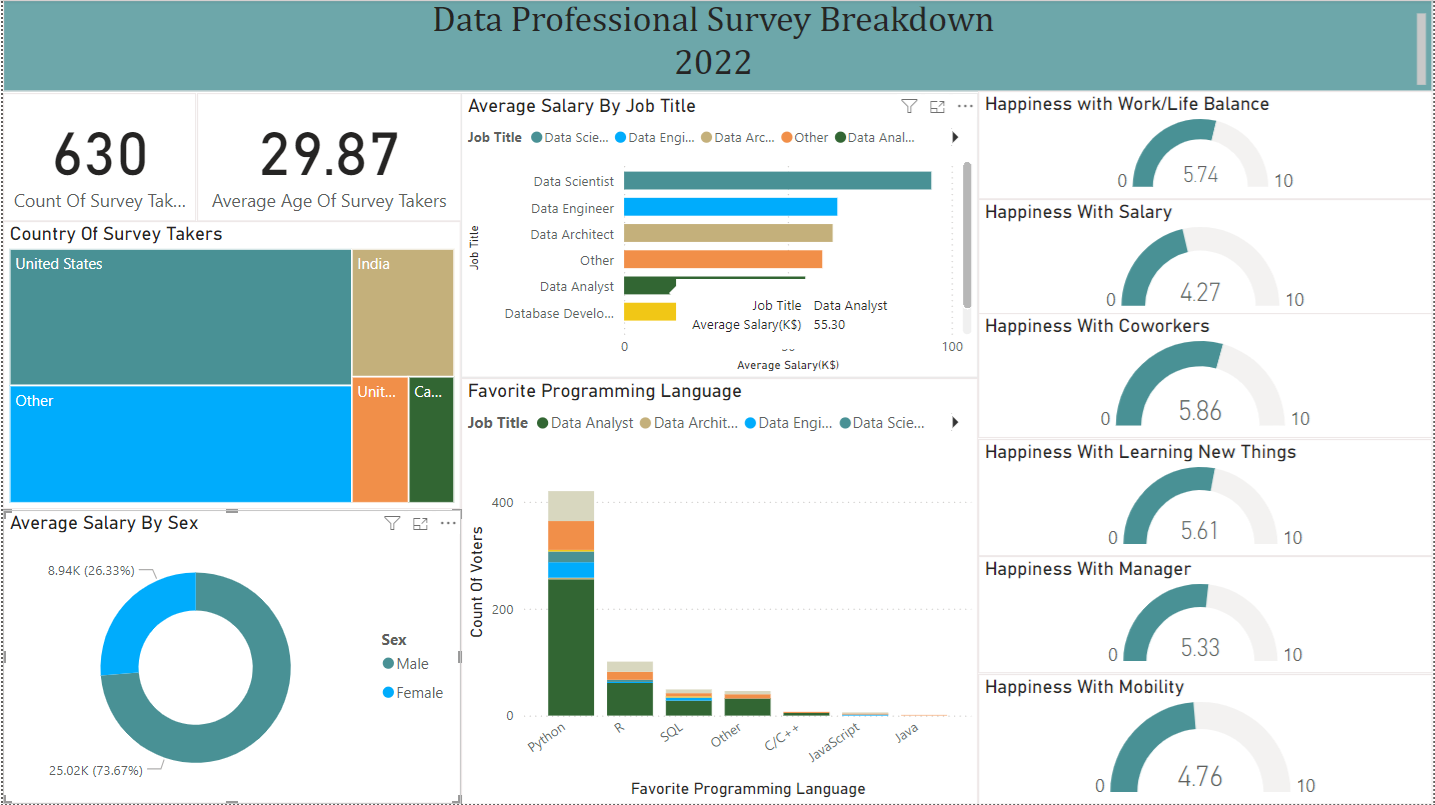

What the dashboard file says about the page in this screenshot:
{"tool":"powerbi","page":{"name":"Page 1","canvas":[1280,720],"ordinal":0},"visuals":[{"type":"textbox","box":[0,0,1280,81.7],"z":0},{"type":"card","fields":{"Values":["Data Professional Survey.Email"]},"box":[0,83.3,173.3,115],"z":1000},{"type":"card","fields":{"Values":["Data Professional Survey.Q10 - Current Age"]},"box":[173.3,83.3,236.7,115],"z":2000},{"type":"barChart","title":"Average Salary By Job Title","fields":{"Category":["Data Professional Survey.Q1 - Which Title Best Fits your Current Role?.1"],"Y":["Data Professional Survey.Average Salary"],"Series":["Data Professional Survey.Q1 - Which Title Best Fits your Current Role?.1"]},"box":[410,83.3,463.3,255],"z":3000},{"type":"columnChart","title":"Favorite Programming Language","fields":{"Category":["Data Professional Survey.Q5 - Favorite Programming Language.1"],"Y":["Data Professional Survey.Q5 - Favorite Programming Language.1"],"Series":["Data Professional Survey.Q1 - Which Title Best Fits your Current Role?.1"]},"box":[410,338.3,463.3,381.7],"z":4000},{"type":"treemap","title":"Country Of Survey Takers","fields":{"Group":["Data Professional Survey.Q11 - Which Country do you live in?.1"],"Values":["Data Professional Survey.Q11 - Which Country do you live in?.1"]},"box":[0,198.3,410,258.3],"z":5000},{"type":"gauge","title":"Happiness with Work/Life Balance","fields":{"Y":["Data Professional Survey.Q6 - How Happy are you in your Current Position with the following? (Work/Life Balance)"],"MinValue":["Data Professional Survey.Q6 - How Happy are you in your Current Position with the following? (Work/Life Balance)"],"MaxValue":["Data Professional Survey.Q6 - How Happy are you in your Current Position with the following? (Work/Life Balance)"]},"box":[873.3,81.7,406.7,96.7],"z":6000},{"type":"gauge","title":"Happiness With Salary","fields":{"Y":["Data Professional Survey.Q6 - How Happy are you in your Current Position with the following? (Salary)"],"MinValue":["Data Professional Survey.Q6 - How Happy are you in your Current Position with the following? (Salary)"],"MaxValue":["Data Professional Survey.Q6 - How Happy are you in your Current Position with the following? (Salary)"]},"box":[873.3,178.3,406.7,106.7],"z":7000},{"type":"donutChart","title":"Average Salary By Sex","fields":{"Category":["Data Professional Survey.Q9 - Male/Female?"],"Y":["Data Professional Survey.Average Salary"]},"box":[0,456.7,410,263.3],"z":8000},{"type":"gauge","title":"Happiness With Coworkers","fields":{"Y":["Data Professional Survey.Q6 - How Happy are you in your Current Position with the following? (Coworkers)"],"MaxValue":["Data Professional Survey.Q6 - How Happy are you in your Current Position with the following? (Coworkers)"],"MinValue":["Data Professional Survey.Q6 - How Happy are you in your Current Position with the following? (Coworkers)"]},"box":[873.3,280,406.7,111.7],"z":8001},{"type":"gauge","title":"Happiness With Learning New Things","fields":{"Y":["Data Professional Survey.Q6 - How Happy are you in your Current Position with the following? (Learning New Things)"],"MinValue":["Data Professional Survey.Q6 - How Happy are you in your Current Position with the following? (Learning New Things)"],"MaxValue":["Data Professional Survey.Q6 - How Happy are you in your Current Position with the following? (Learning New Things)"]},"box":[873.3,393.3,406.7,105],"z":8002},{"type":"gauge","title":"Happiness With Manager","fields":{"Y":["Data Professional Survey.Q6 - How Happy are you in your Current Position with the following? (Management)"],"MinValue":["Data Professional Survey.Q6 - How Happy are you in your Current Position with the following? (Management)"],"MaxValue":["Data Professional Survey.Q6 - How Happy are you in your Current Position with the following? (Management)"]},"box":[873.3,498.3,406.7,105],"z":8003},{"type":"gauge","title":"Happiness With Mobility","fields":{"Y":["Data Professional Survey.Q6 - How Happy are you in your Current Position with the following? (Upward Mobility)"],"MinValue":["Data Professional Survey.Q6 - How Happy are you in your Current Position with the following? (Upward Mobility)"],"MaxValue":["Data Professional Survey.Q6 - How Happy are you in your Current Position with the following? (Upward Mobility)"]},"box":[873.3,603.3,406.7,116.7],"z":8004}]}

Visuals, with their boxes in screenshot pixels (x1, y1, x2, y2), scaled from the page's 1280x720 canvas onto the 1435x805 screenshot:
textbox: locate(0, 0, 1434, 91)
card - Data Professional Survey.Email: locate(0, 93, 194, 222)
card - Data Professional Survey.Q10 - Current Age: locate(194, 93, 460, 222)
"Average Salary By Job Title" barChart: locate(460, 93, 979, 378)
"Favorite Programming Language" columnChart: locate(460, 378, 979, 804)
"Country Of Survey Takers" treemap: locate(0, 222, 460, 511)
"Happiness with Work/Life Balance" gauge: locate(979, 91, 1434, 199)
"Happiness With Salary" gauge: locate(979, 199, 1434, 319)
"Average Salary By Sex" donutChart: locate(0, 511, 460, 804)
"Happiness With Coworkers" gauge: locate(979, 313, 1434, 438)
"Happiness With Learning New Things" gauge: locate(979, 440, 1434, 557)
"Happiness With Manager" gauge: locate(979, 557, 1434, 675)
"Happiness With Mobility" gauge: locate(979, 675, 1434, 804)
